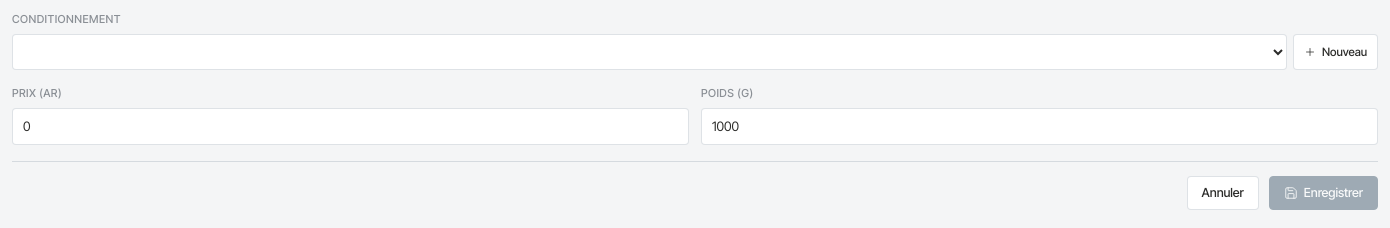
Scenario: ErpProductPriceForm — création inline de conditionnement › annule la création et revient au sélecteur
The width and height of the screenshot is (1390, 228).
Click the button "Nouveau": (1336, 52) top-left (1293, 34), bottom-right (1378, 70)
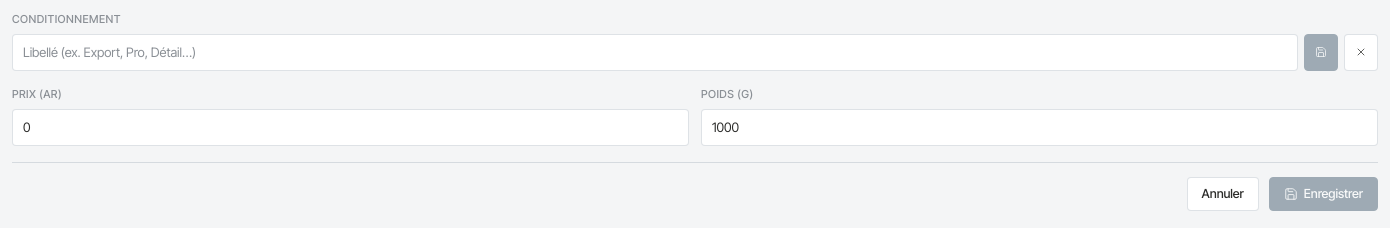
Click the 2nd button: (1361, 52) top-left (1344, 34), bottom-right (1378, 71)
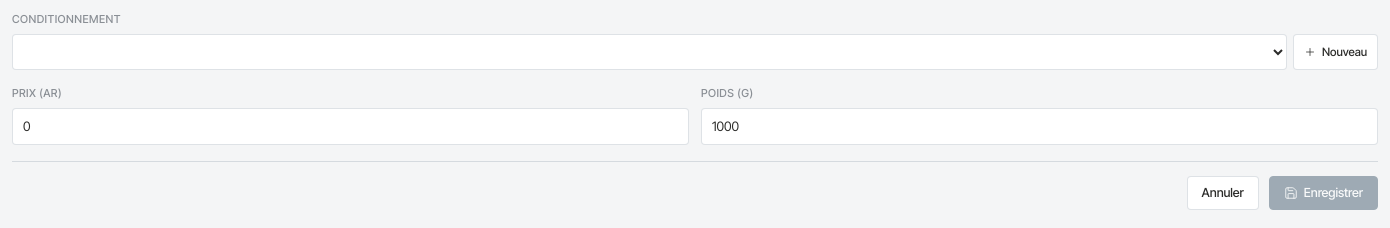
Check: the dropdown named "packaging" is shown, box top-left (12, 34), bottom-right (1287, 70)
